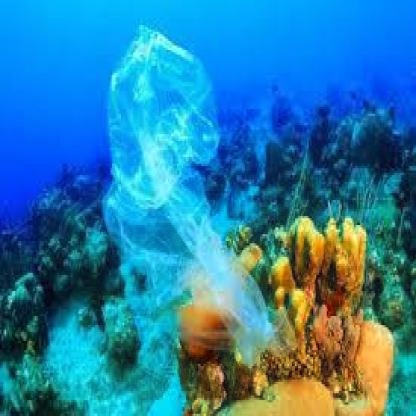pbag: (101, 23, 298, 382)
